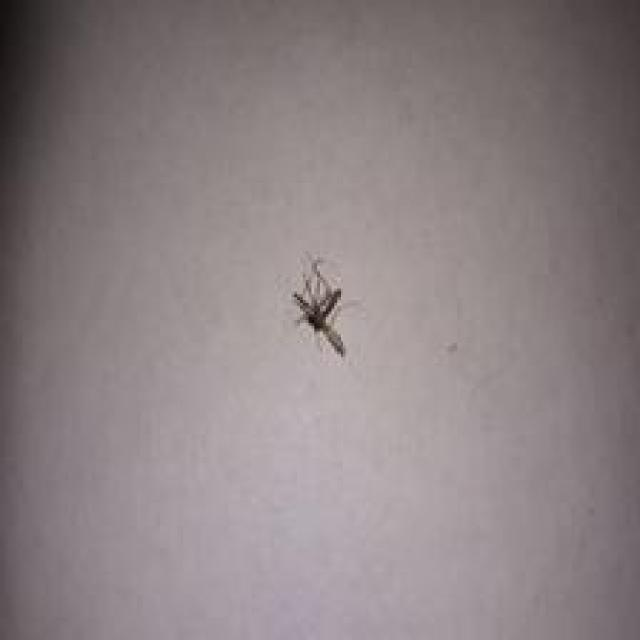Culex: (290, 255, 347, 358)
